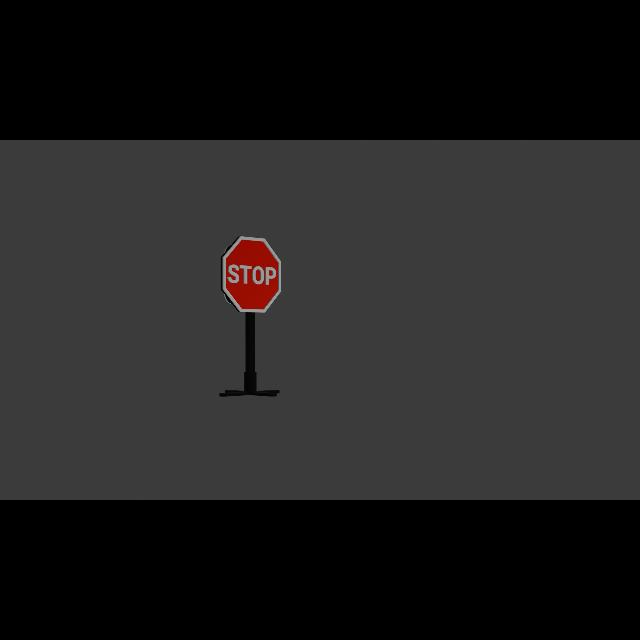sign_stop: (222, 236, 283, 314)
